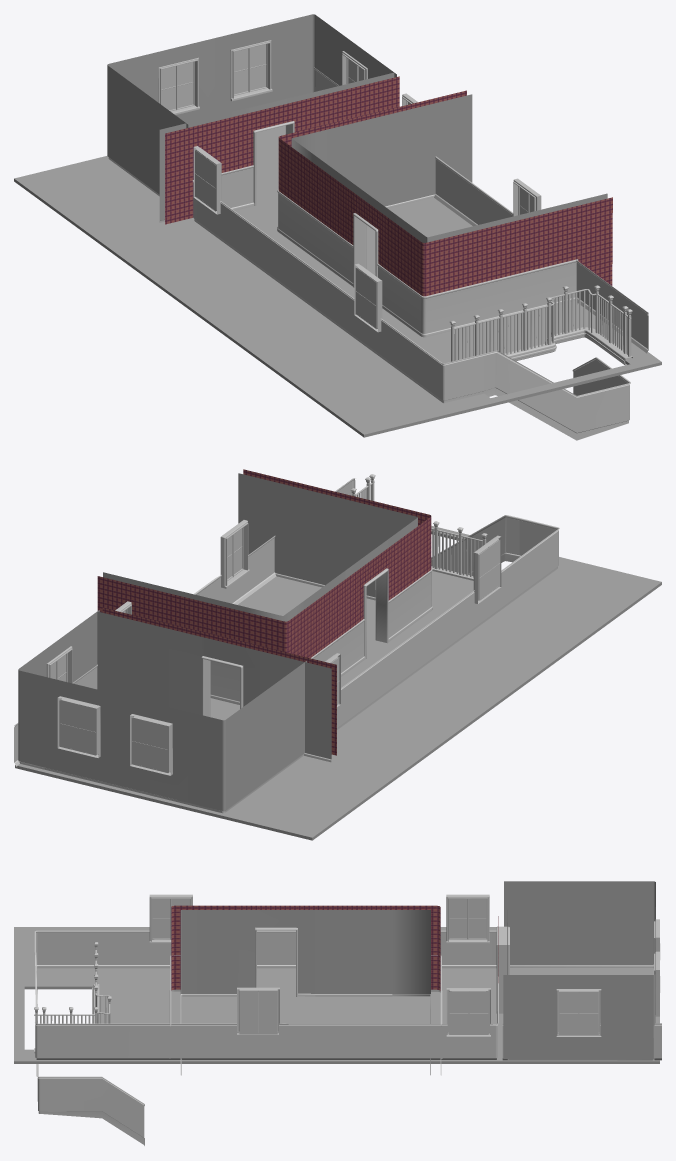
The model's file is Cabin_lv2.fbx.
3 renders of one model, top to bottom at view 1: azimuth 30°, elevation 25°; view 2: azimuth 150°, elevation 25°; view 3: azimuth 270°, elevation 25°, orthographic. The views are drawn at different scales.
Visible parts, largest first — view 1: cabin_lv2; view 2: cabin_lv2; view 3: cabin_lv2.
Boxes of the visible parts, x1,y1,x2,y2 form: cabin_lv2: (14, 14, 661, 440); cabin_lv2: (14, 469, 661, 840); cabin_lv2: (14, 881, 661, 1145).
Bounding box in the file's own units: 925 × 513 × 1684.
